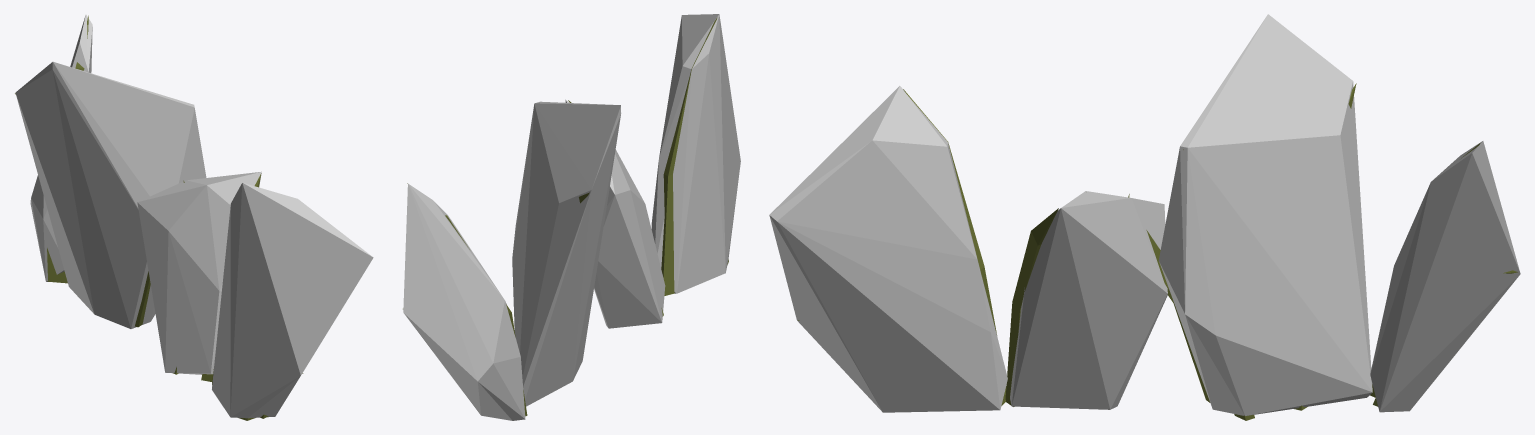
Rendered from SM_Env_Grass_03.fbx.
3 renders of one model, left to right at view 1: azimuth 30°, elevation 25°; view 2: azimuth 150°, elevation 25°; view 3: azimuth 270°, elevation 25°, orthographic. The views are drawn at different scales.
Visible parts, largest first — view 1: SM_Env_Grass_03_ConvexHulls, SM_Env_Grass_03; view 2: SM_Env_Grass_03_ConvexHulls, SM_Env_Grass_03; view 3: SM_Env_Grass_03_ConvexHulls, SM_Env_Grass_03.
Part boxes in pixels (x1=…): SM_Env_Grass_03_ConvexHulls: x1=15, y1=14, x2=373, y2=418; SM_Env_Grass_03: x1=15, y1=15, x2=303, y2=420; SM_Env_Grass_03_ConvexHulls: x1=403, y1=14, x2=740, y2=420; SM_Env_Grass_03: x1=407, y1=17, x2=728, y2=416; SM_Env_Grass_03_ConvexHulls: x1=769, y1=14, x2=1520, y2=415; SM_Env_Grass_03: x1=798, y1=83, x2=1517, y2=420.
Size of the model in its own units: 37.64 by 137 by 70.44.
Materials: 2 (1 with a texture image).
